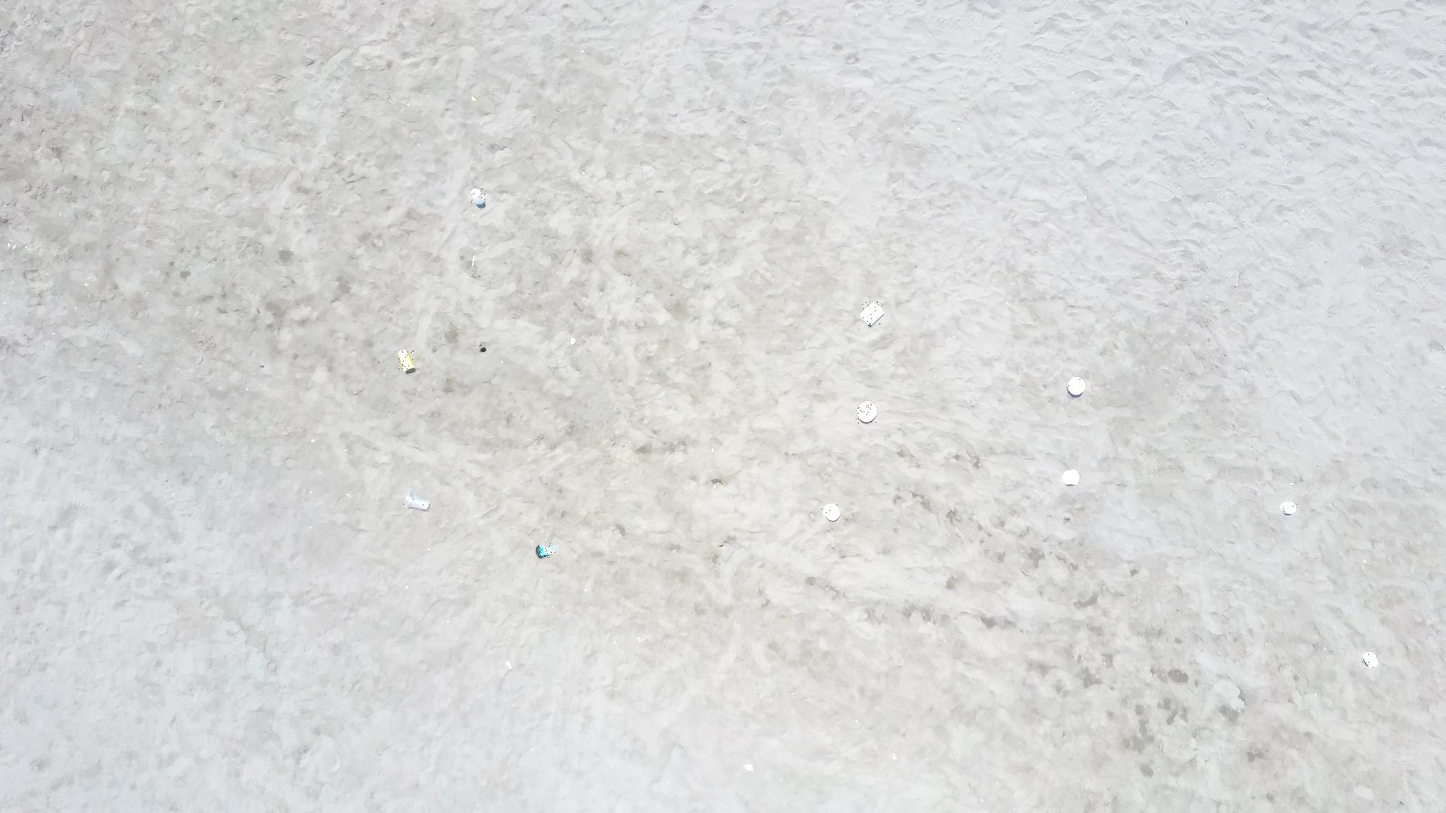Garbage: (860, 300, 883, 325), (405, 489, 429, 510), (856, 401, 877, 423), (1066, 376, 1085, 397), (397, 350, 415, 372), (471, 188, 486, 207), (823, 503, 839, 520), (1361, 652, 1378, 668), (536, 543, 552, 557), (1062, 469, 1078, 483), (1279, 501, 1296, 514), (743, 764, 753, 771), (479, 344, 486, 353), (569, 337, 575, 344)
